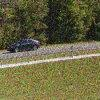cars: (7, 39, 41, 54)
